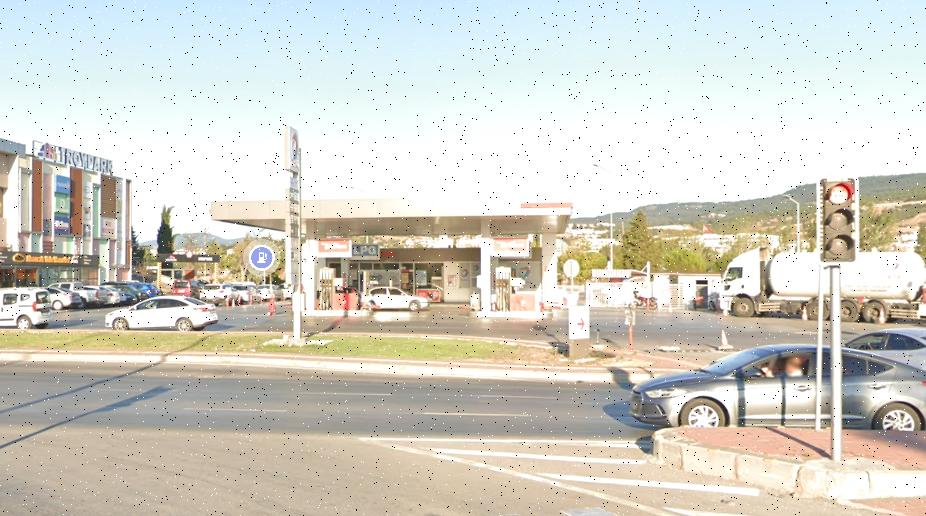redlight: (826, 184, 859, 266)
